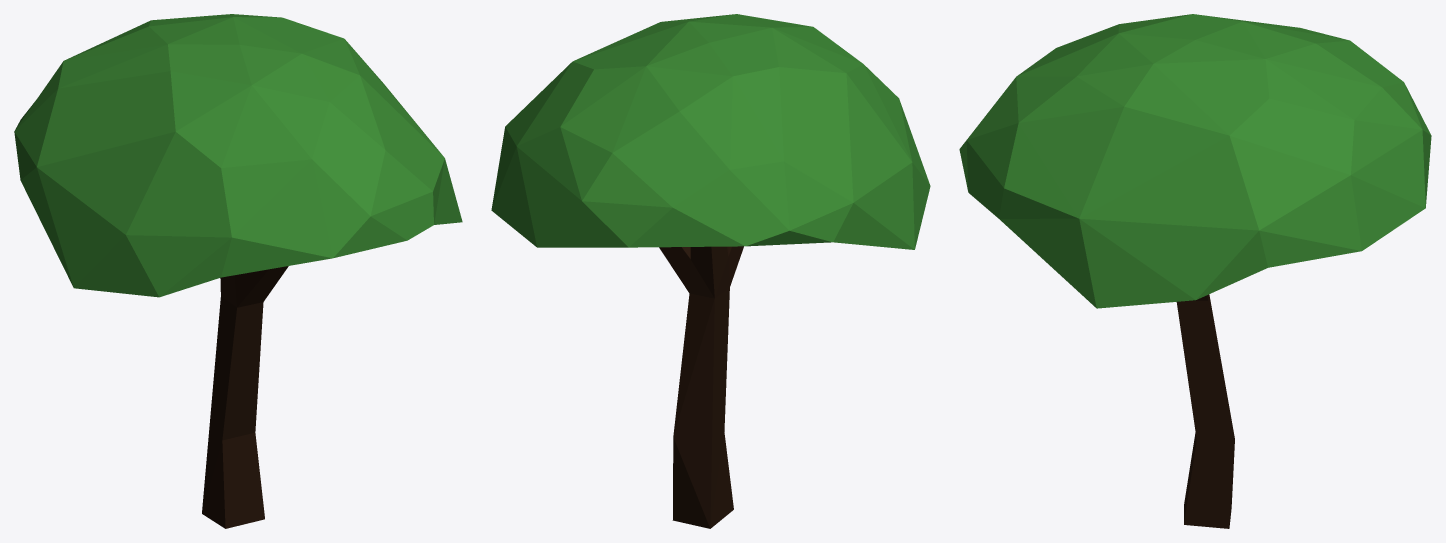
File: pin.fbx
3 renders of one model, left to right at view 1: azimuth 30°, elevation 25°; view 2: azimuth 150°, elevation 25°; view 3: azimuth 270°, elevation 25°, orthographic.
Visible parts, largest first — view 1: Saule; view 2: Saule; view 3: Saule.
Part boxes in pixels (<box>): Saule: <box>14,14,462,528</box>; Saule: <box>491,14,930,528</box>; Saule: <box>959,14,1431,528</box>.
Size of the model in its own units: 842 by 1017 by 908.
